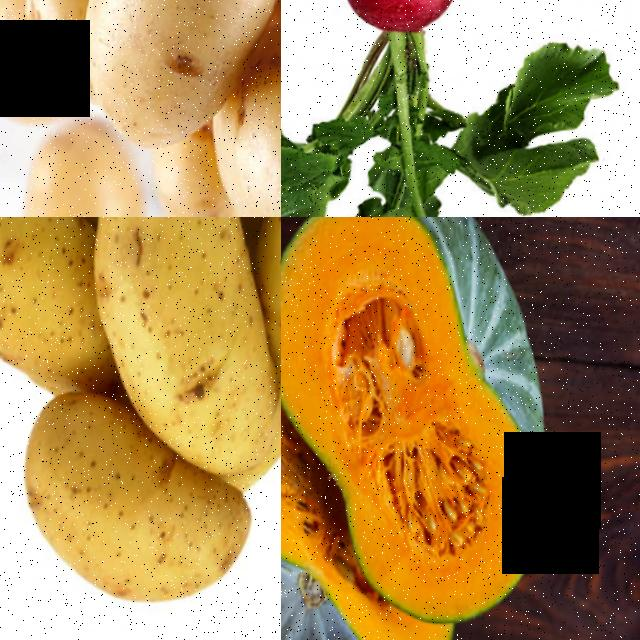potato: (14, 427, 268, 619), (74, 217, 281, 450), (76, 0, 281, 156), (0, 217, 100, 396), (198, 43, 281, 217), (13, 126, 157, 217)
pumpkin: (281, 217, 582, 640)
radishes: (299, 0, 495, 138)
